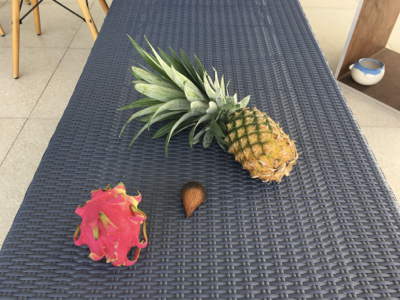dragon fruit: (75, 183, 149, 268)
pineapple: (118, 35, 299, 183)
snake fruit: (180, 182, 206, 221)
